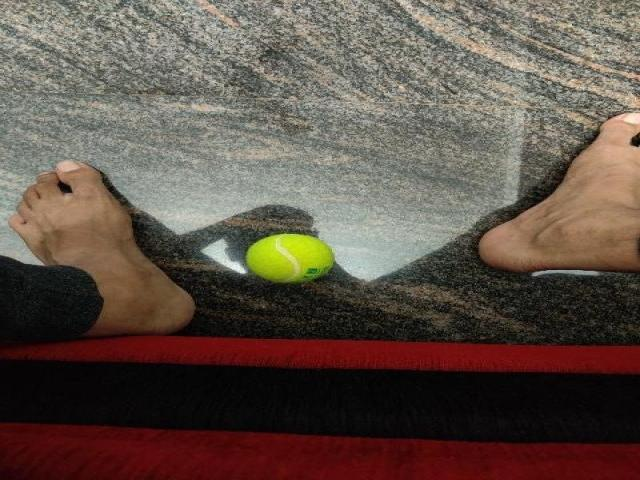tennis-ball: (244, 232, 334, 284)
